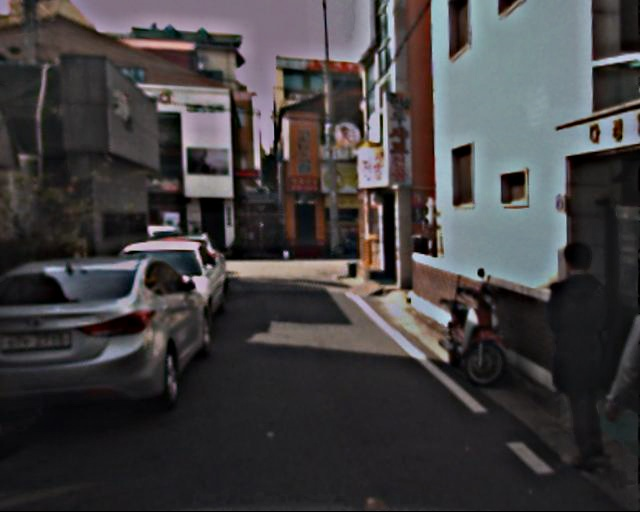person: (532, 243, 627, 472)
